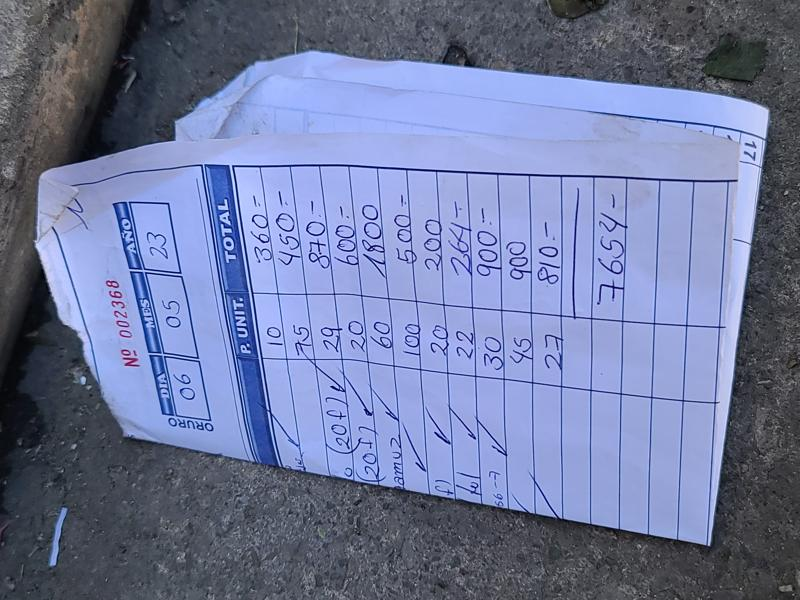papel: (33, 51, 770, 549)
